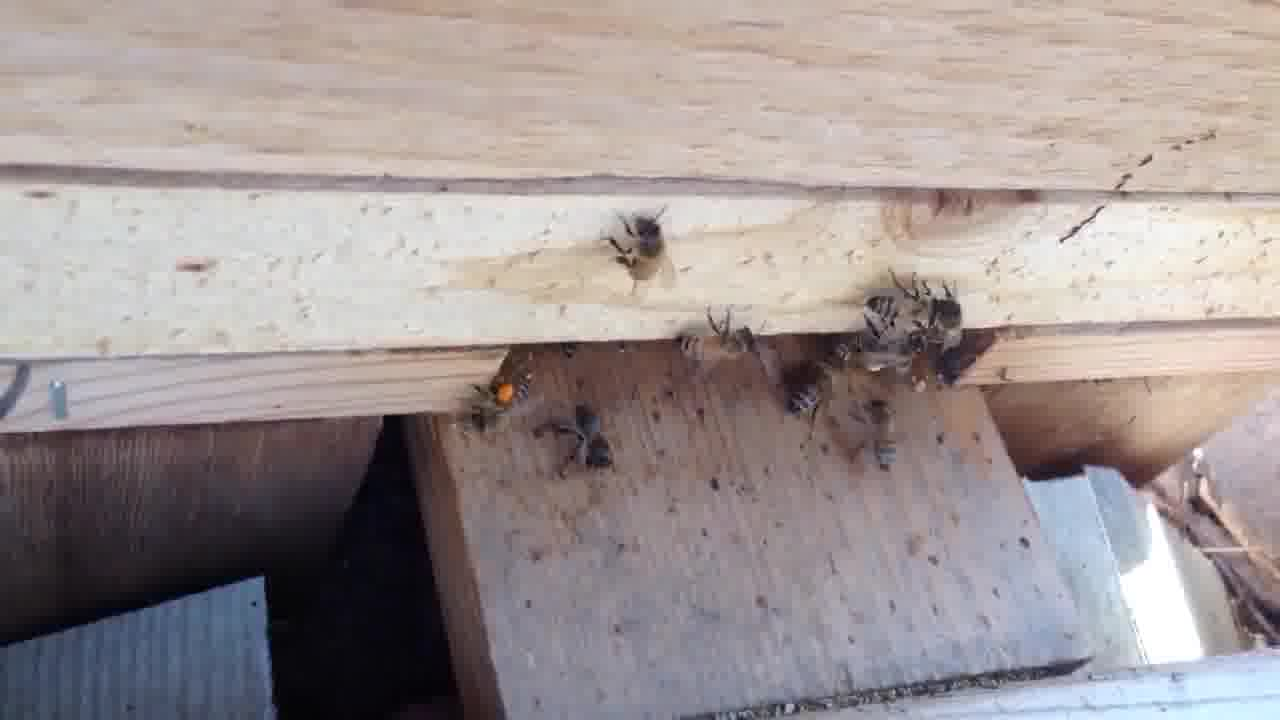pollen: (464, 376, 540, 429)
